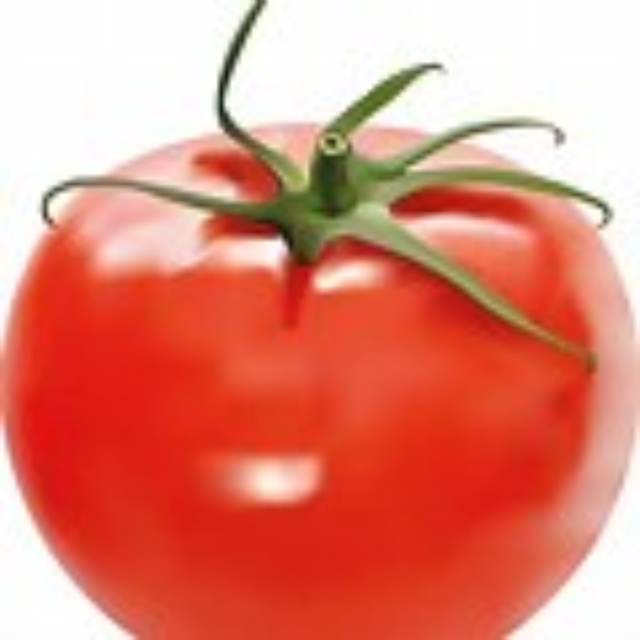tomato: (9, 112, 634, 636)
